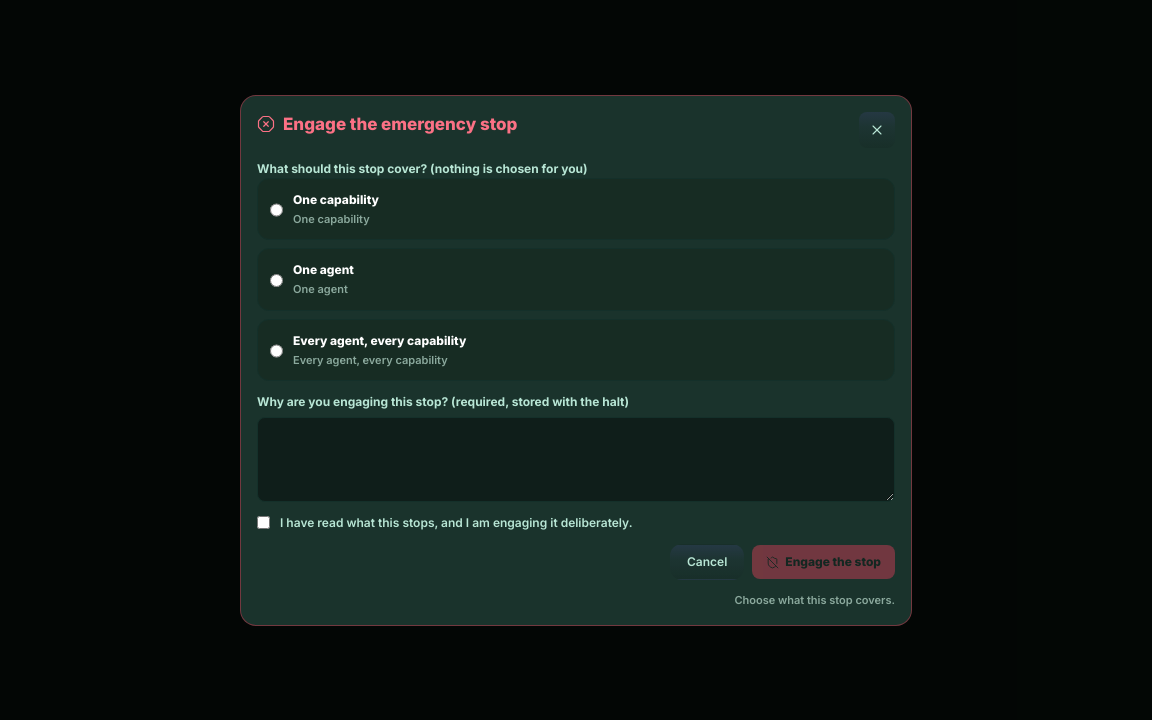
Scenario: engaging the stop is deliberate › states the blast radius before anyone can confirm
Click the radio button labelled "Every agent, every capability Every agent, every capability" at (276, 351), box [270, 334, 283, 368]
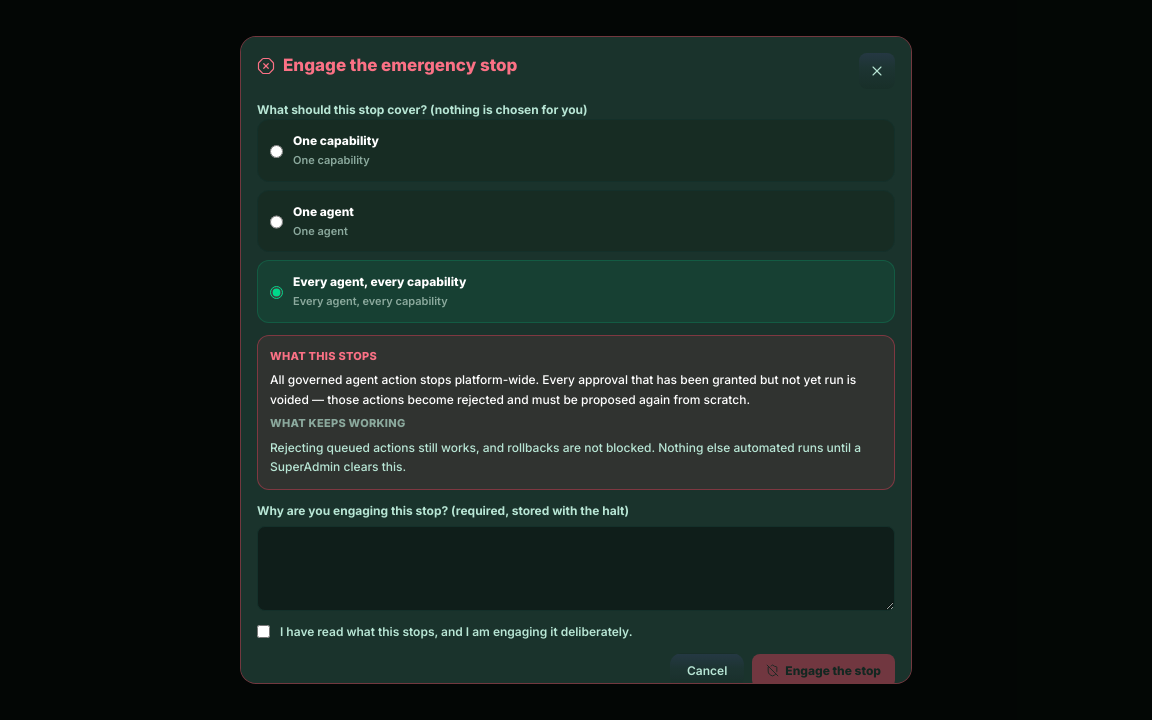
Expected: the element with test id "blast-radius" shows "platform-wide", [270, 372, 856, 406]
Expected: the element with test id "blast-radius" shows "voided", [270, 372, 856, 406]
Expected: the element with test id "blast-radius" shows "What keeps working", [270, 416, 406, 430]
